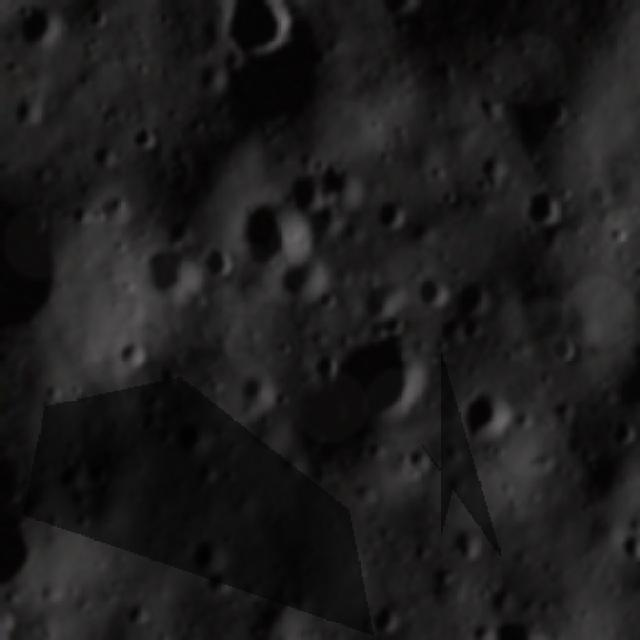crater: (0, 186, 65, 343), (0, 452, 63, 608), (328, 331, 419, 422), (236, 199, 310, 267), (212, 0, 296, 57), (129, 240, 197, 306), (456, 381, 518, 441), (163, 416, 214, 466), (516, 183, 572, 226), (451, 270, 498, 321), (176, 533, 229, 576), (313, 152, 367, 194), (266, 169, 320, 211), (526, 84, 572, 133), (359, 274, 404, 324), (232, 363, 278, 409), (368, 191, 414, 235), (11, 1, 58, 44), (403, 268, 448, 312), (362, 600, 404, 640), (543, 321, 580, 364), (121, 113, 159, 152), (449, 522, 488, 558), (12, 88, 45, 129), (614, 518, 640, 564), (114, 334, 148, 368), (604, 411, 638, 444)
